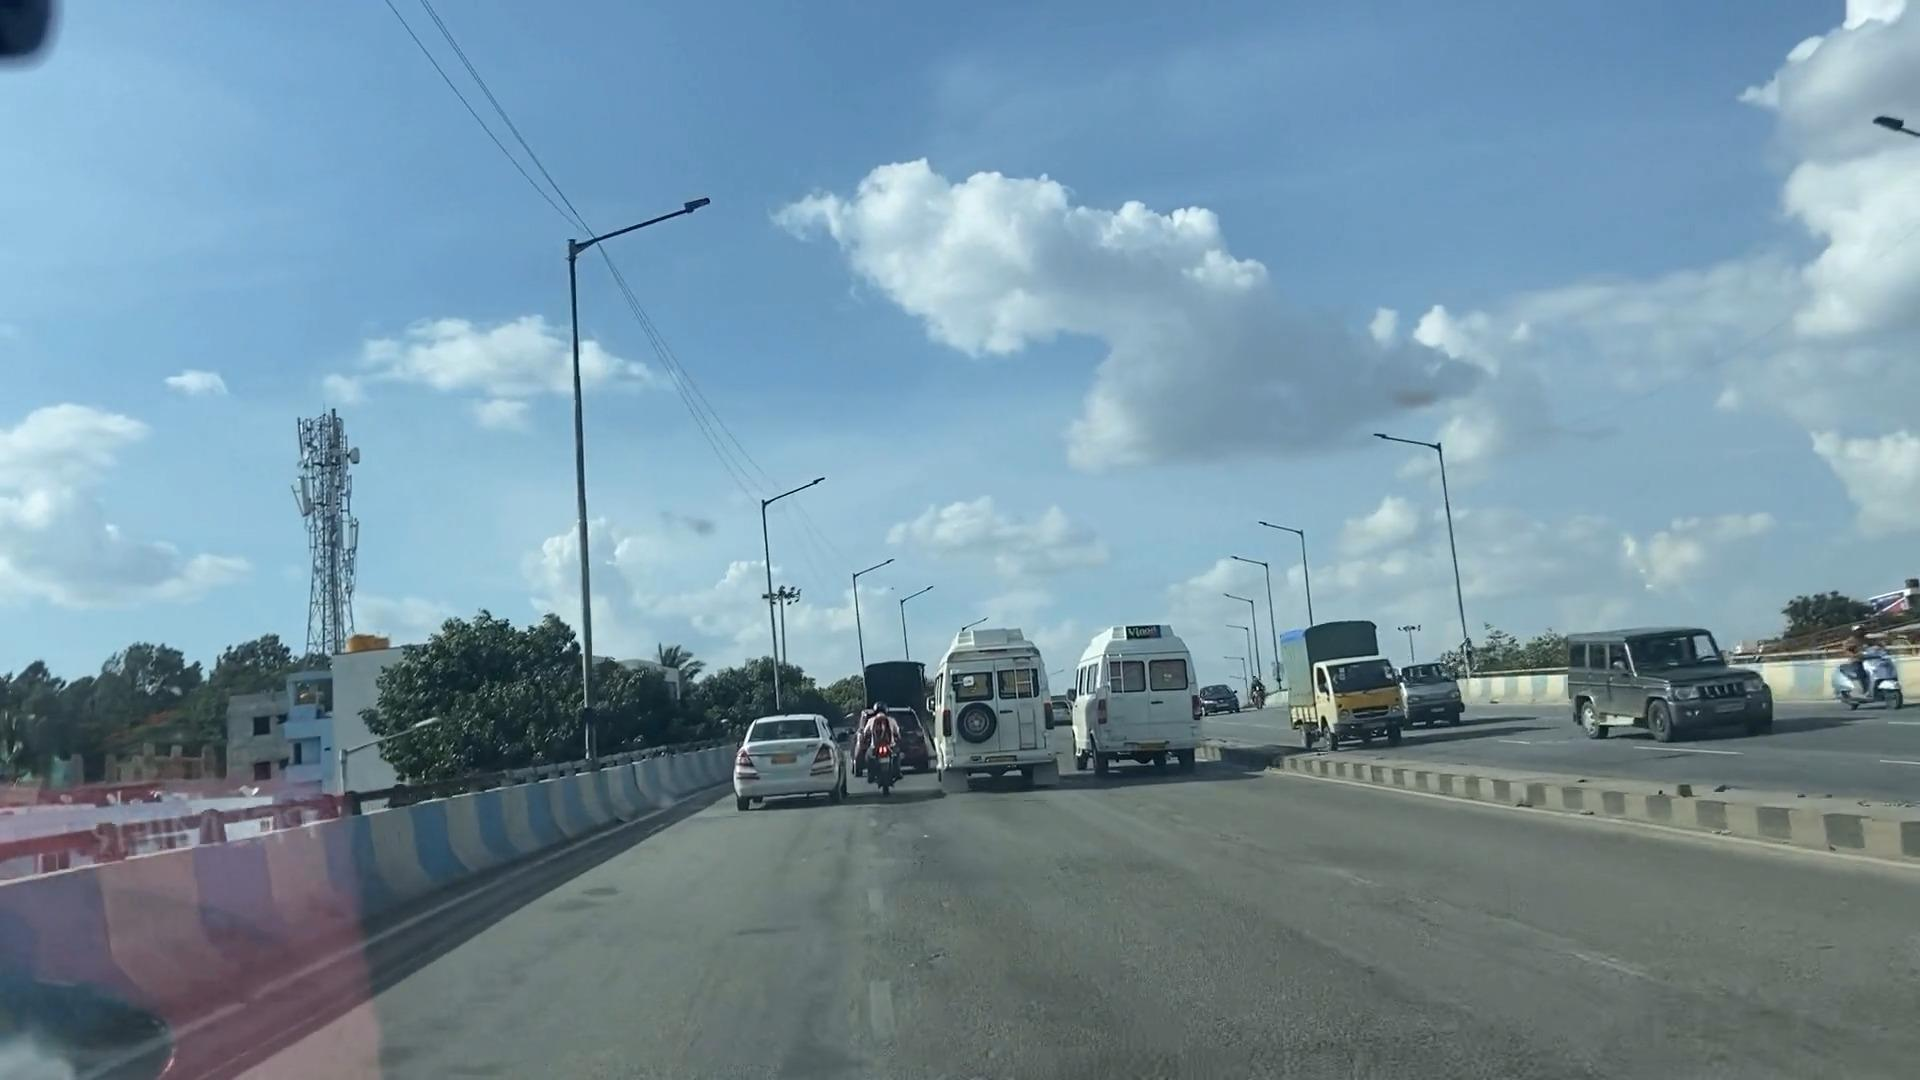HMV: (932, 622, 1065, 794), (1068, 616, 1185, 775)
LMV: (708, 700, 857, 805), (858, 698, 913, 791)
